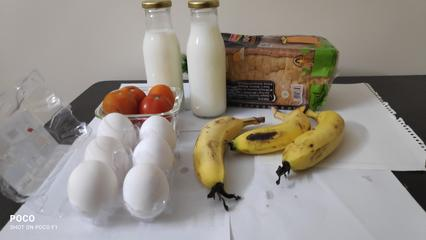banana: (246, 102, 345, 167), (192, 110, 250, 204)
bread: (231, 29, 343, 98)
eggs: (78, 110, 168, 222)
milk: (140, 0, 232, 115)
tomato: (100, 85, 180, 120)
